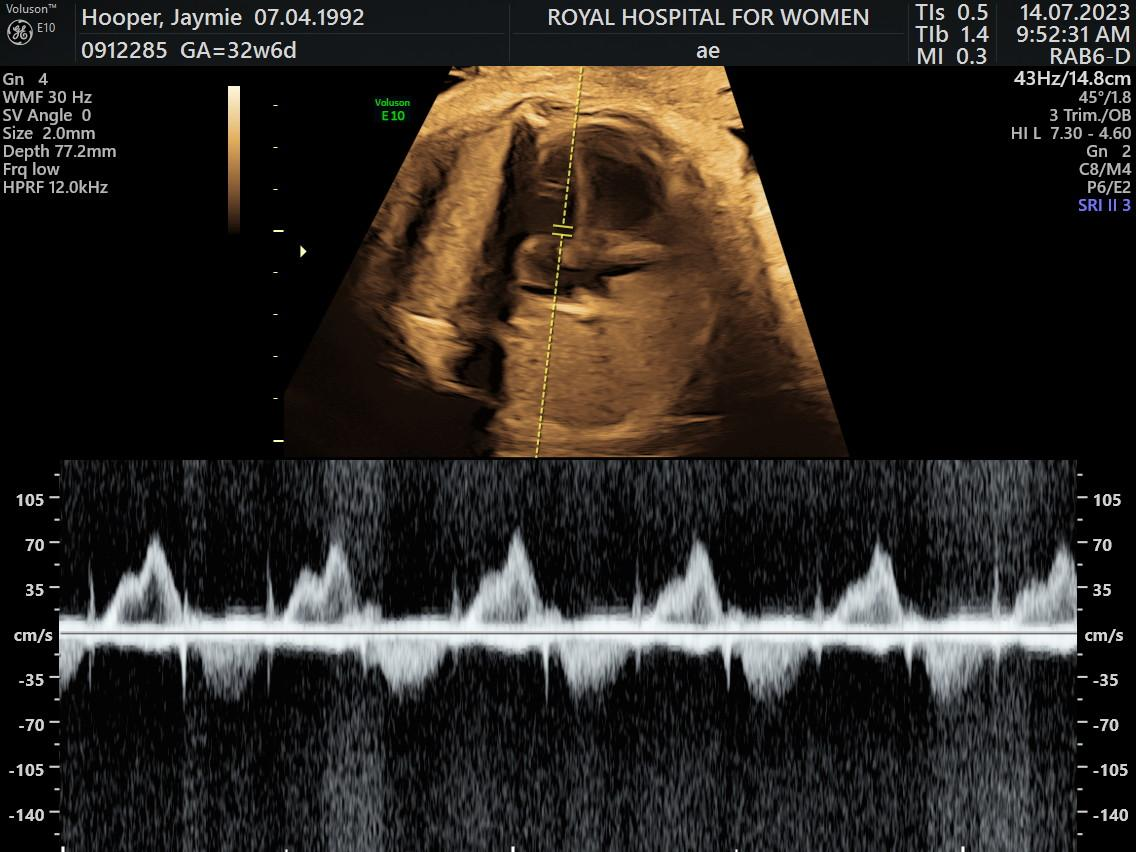Ultrasound-Waves: (62, 459, 1074, 850)
